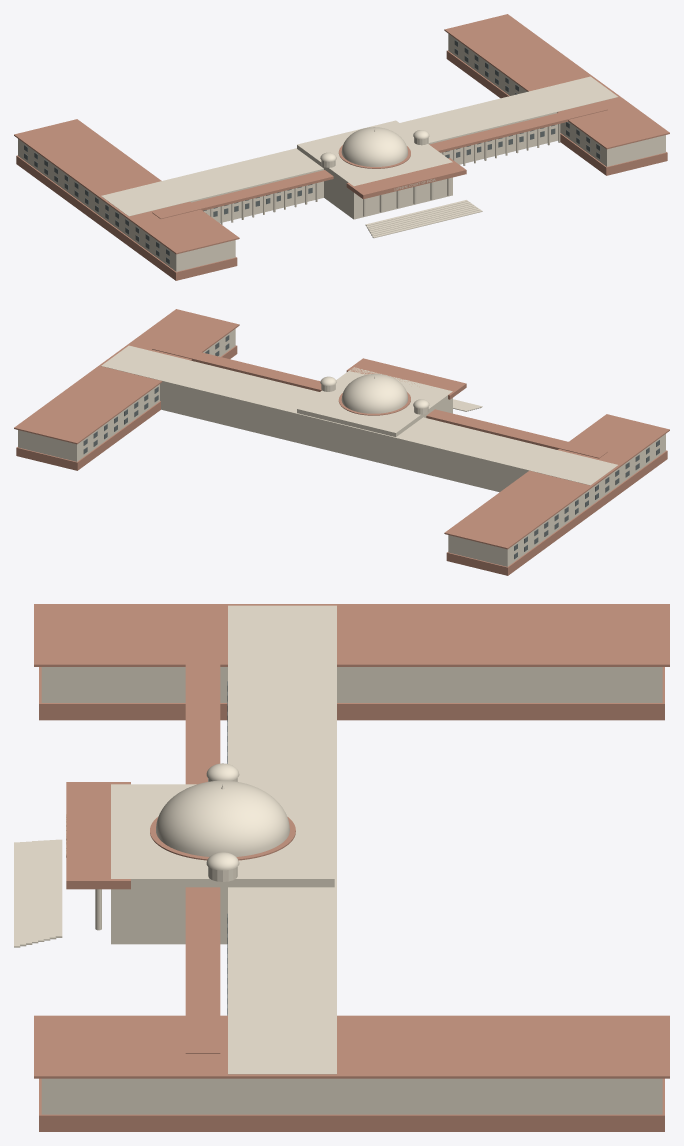
The model's file is supreme-court.glb.
The picture shows the model from 3 angles, top to bottom: view 1: azimuth 30°, elevation 25°; view 2: azimuth 150°, elevation 25°; view 3: azimuth 270°, elevation 25°; orthographic projection. The views are drawn at different scales.
Parts seen in each view (by area): view 1: NCR_supreme-court; view 2: NCR_supreme-court; view 3: NCR_supreme-court.
Part boxes in pixels (box(x1,y1,x2,y2)): NCR_supreme-court: box(14, 14, 669, 280); NCR_supreme-court: box(14, 309, 669, 575); NCR_supreme-court: box(14, 604, 669, 1131).
Bounding box in the file's own units: 248 × 27.6 × 146.
